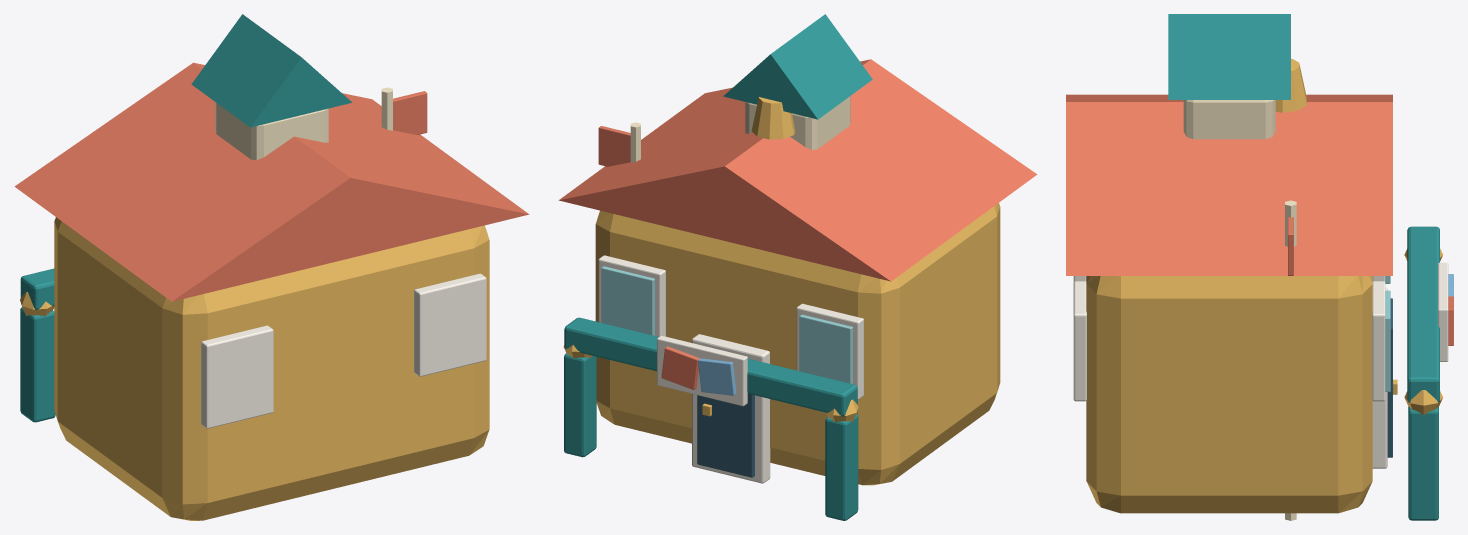
Rendered from school.glb.
The picture shows the model from 3 angles, left to right: view 1: azimuth 30°, elevation 25°; view 2: azimuth 150°, elevation 25°; view 3: azimuth 270°, elevation 25°; orthographic projection. The views are drawn at different scales.
Parts seen in each view (by area): view 1: school; view 2: school; view 3: school.
Boxes of the visible parts, box(x1,y1,x2,y2) form: school: box(14, 14, 529, 520); school: box(558, 14, 1037, 520); school: box(1066, 14, 1453, 520).
Size of the model in its own units: 4.25 by 4.71 by 3.79.
